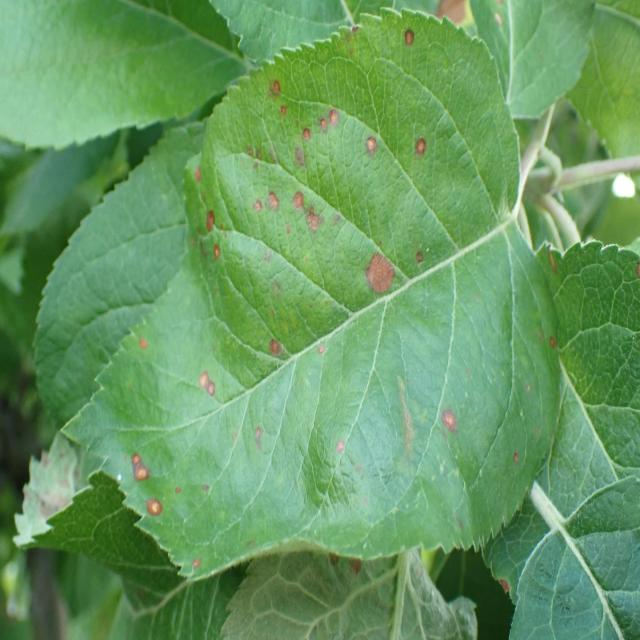Black Rot: (285, 179, 340, 243), (360, 247, 404, 297), (186, 366, 224, 408), (125, 444, 154, 494), (290, 124, 318, 174), (250, 184, 280, 229), (356, 126, 386, 170), (243, 144, 284, 175), (135, 498, 177, 527), (443, 397, 468, 445), (505, 434, 525, 492), (538, 238, 563, 284), (497, 567, 520, 616), (395, 19, 421, 59), (265, 333, 292, 371), (331, 433, 351, 483), (408, 129, 436, 164), (316, 103, 341, 138), (265, 68, 285, 111), (136, 326, 156, 365), (250, 417, 266, 463), (181, 160, 208, 186), (544, 329, 562, 367), (199, 215, 223, 241), (209, 238, 224, 278), (413, 242, 430, 274), (188, 554, 208, 577), (628, 247, 640, 285), (314, 332, 326, 367), (202, 476, 218, 500), (171, 478, 183, 502)
